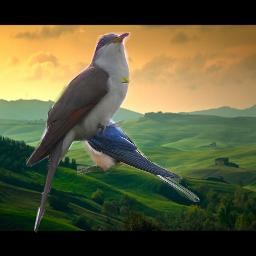Cuckoo: (25, 32, 131, 235)
Swallow: (77, 105, 200, 202)
